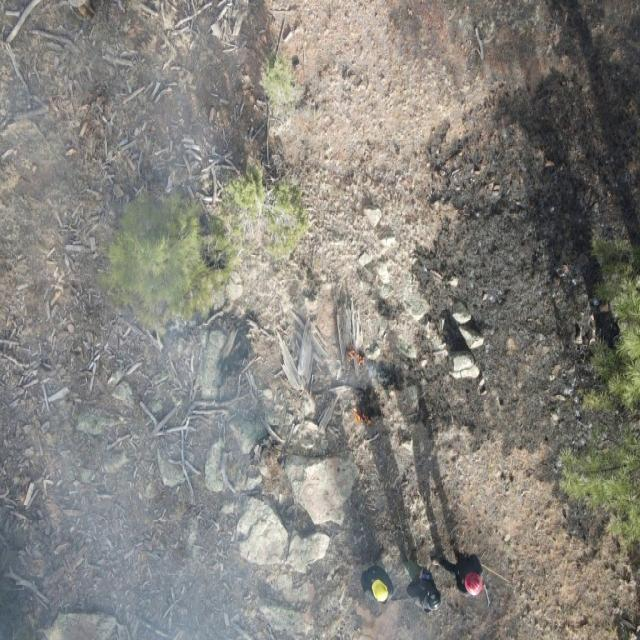fire: (342, 345, 370, 374), (350, 406, 373, 430)
smoke: (0, 0, 269, 640), (269, 445, 435, 640)
